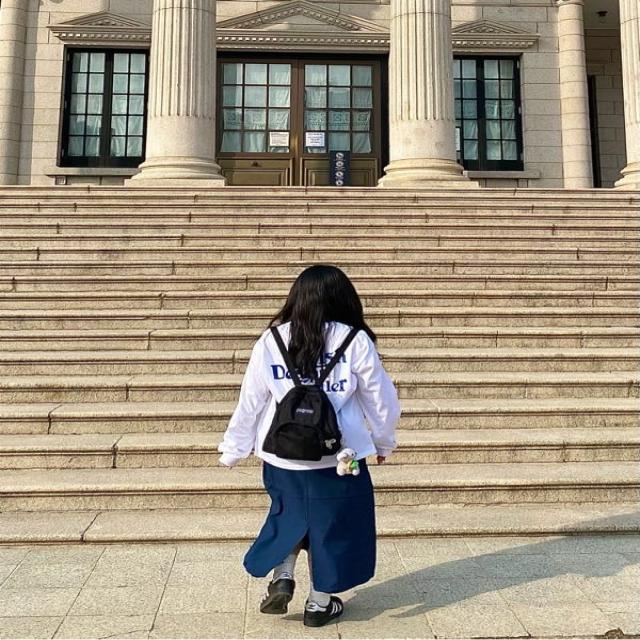longsleeve: (222, 321, 404, 470)
skirt: (249, 457, 381, 598)
